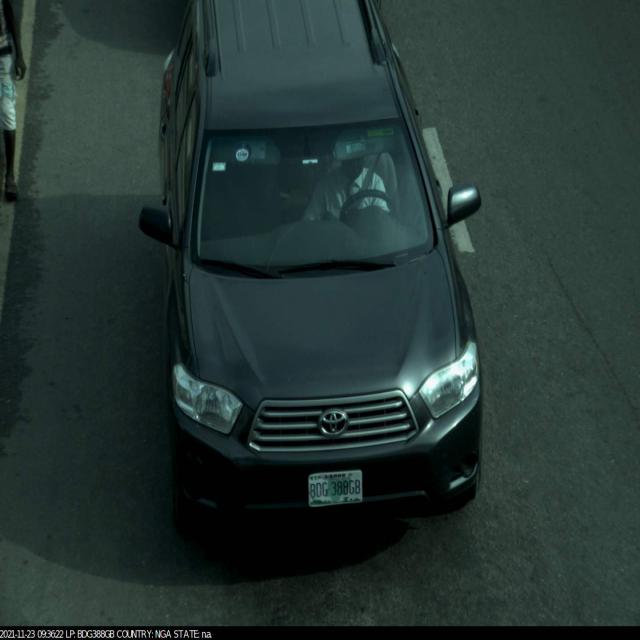windshield: (183, 111, 446, 282)
